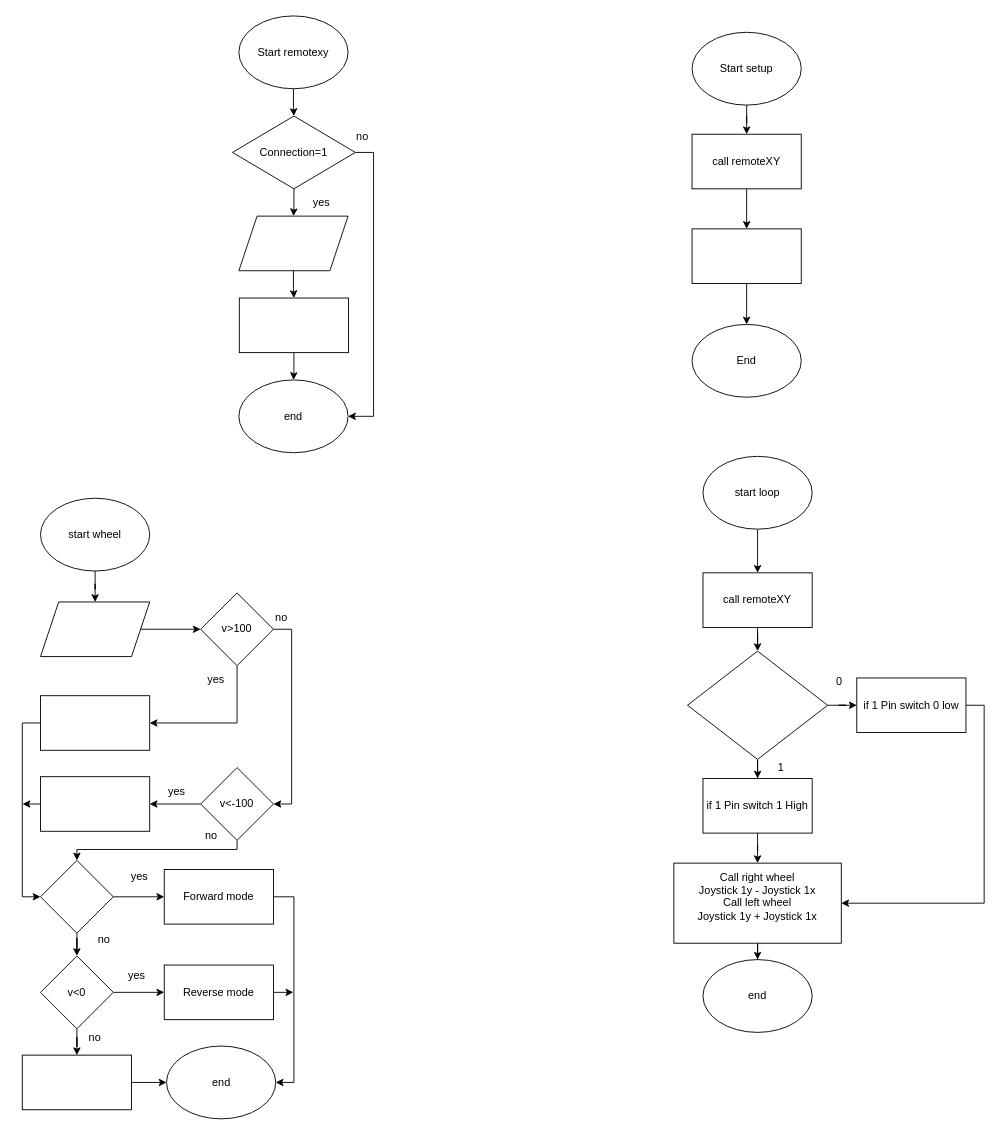
Some shapes in this 1007 by 1135 pixel diagram are drawn without their labels. Here are the shapes that lost their labels. From the top down, the centre of each, then its label:
At point (293, 243): "read joystick".
At point (746, 255): "set pinmode A and B".
At point (293, 325): "store value".
At point (95, 629): "read speed".
At point (95, 722): "set v=100".
At point (757, 704): "check remoteXY Switch 1 or 0".
At point (95, 803): "set v=-100".
At point (76, 896): "v>0".
At point (76, 1082): "stop mode".
